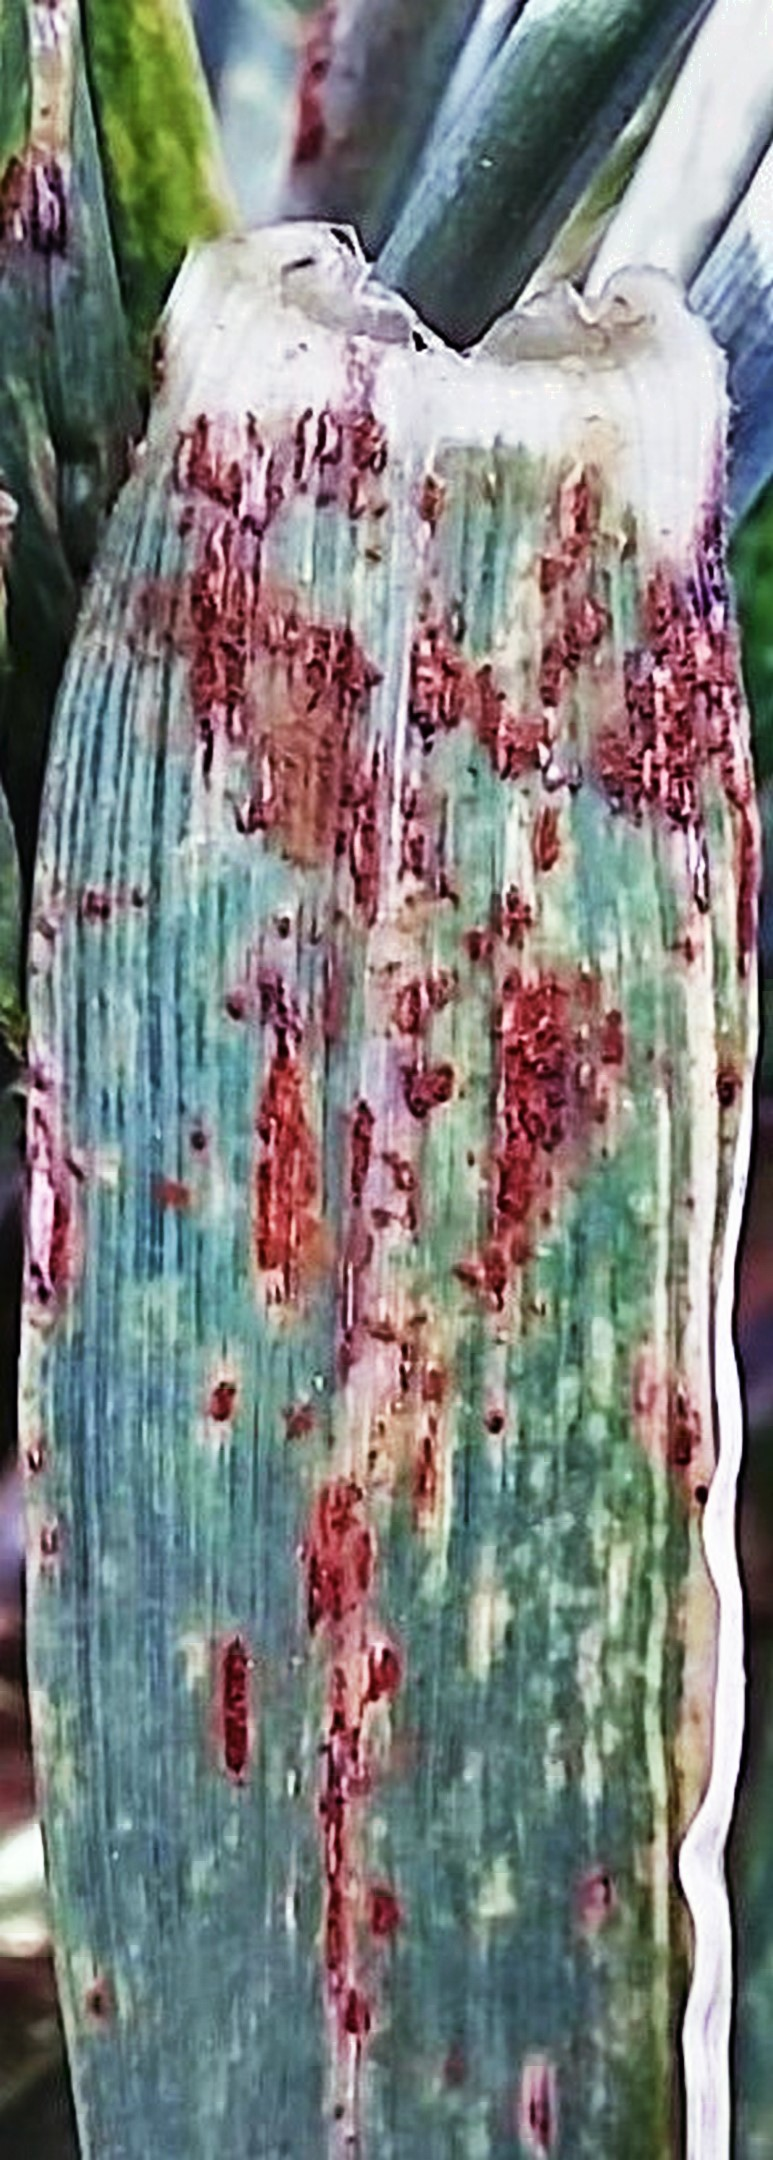Leaf Rust: (50, 446, 773, 2081)
